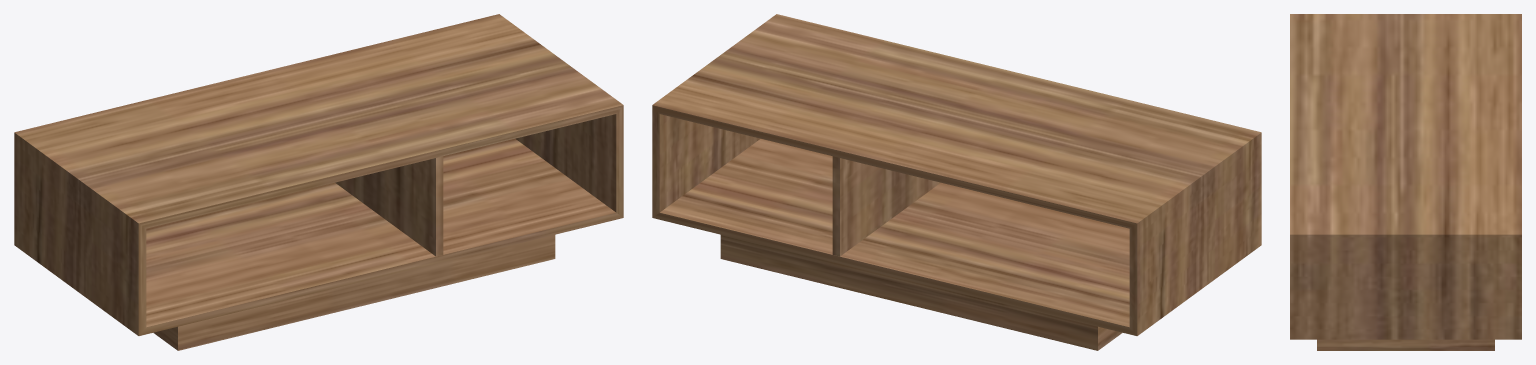
The model's file is TV Stand.fbx.
3 renders of one model, left to right at view 1: azimuth 30°, elevation 25°; view 2: azimuth 150°, elevation 25°; view 3: azimuth 270°, elevation 25°, orthographic. The views are drawn at different scales.
Parts seen in each view (by area): view 1: Cube; view 2: Cube; view 3: Cube.
Part boxes in pixels (x1,y1,x2,y2): Cube: (14, 14, 623, 350); Cube: (652, 14, 1261, 350); Cube: (1290, 14, 1521, 350).
Bounding box in the file's own units: 90 × 26.82 × 40.
